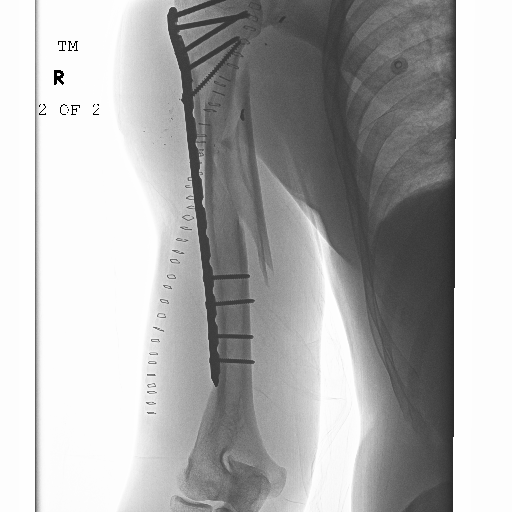implant: (190, 258, 266, 395), (159, 2, 259, 105)
